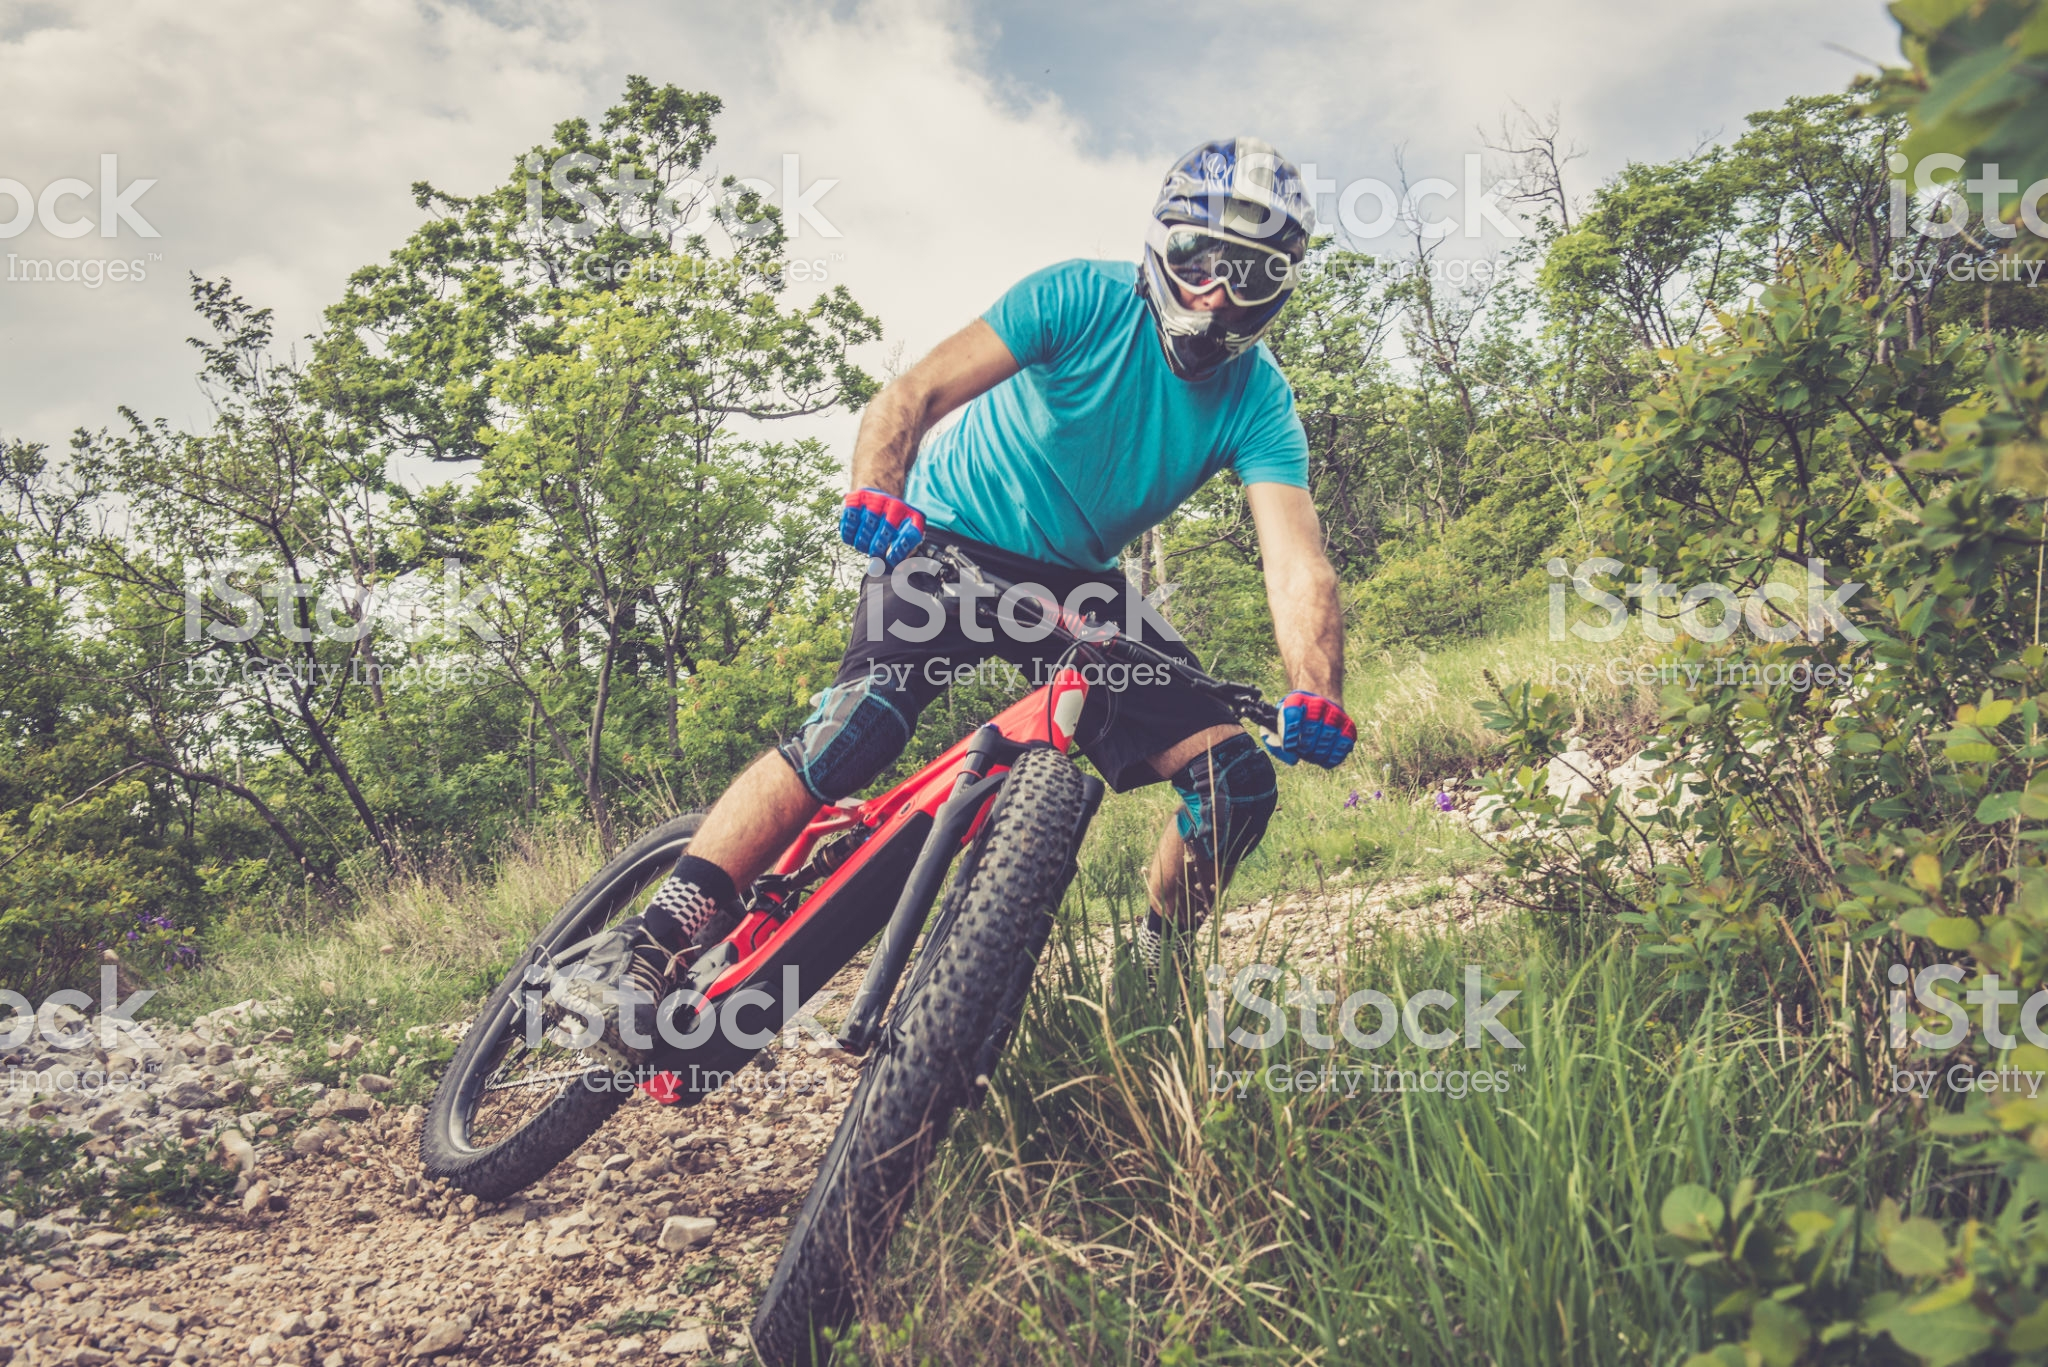helmet: (1138, 156, 1324, 381)
